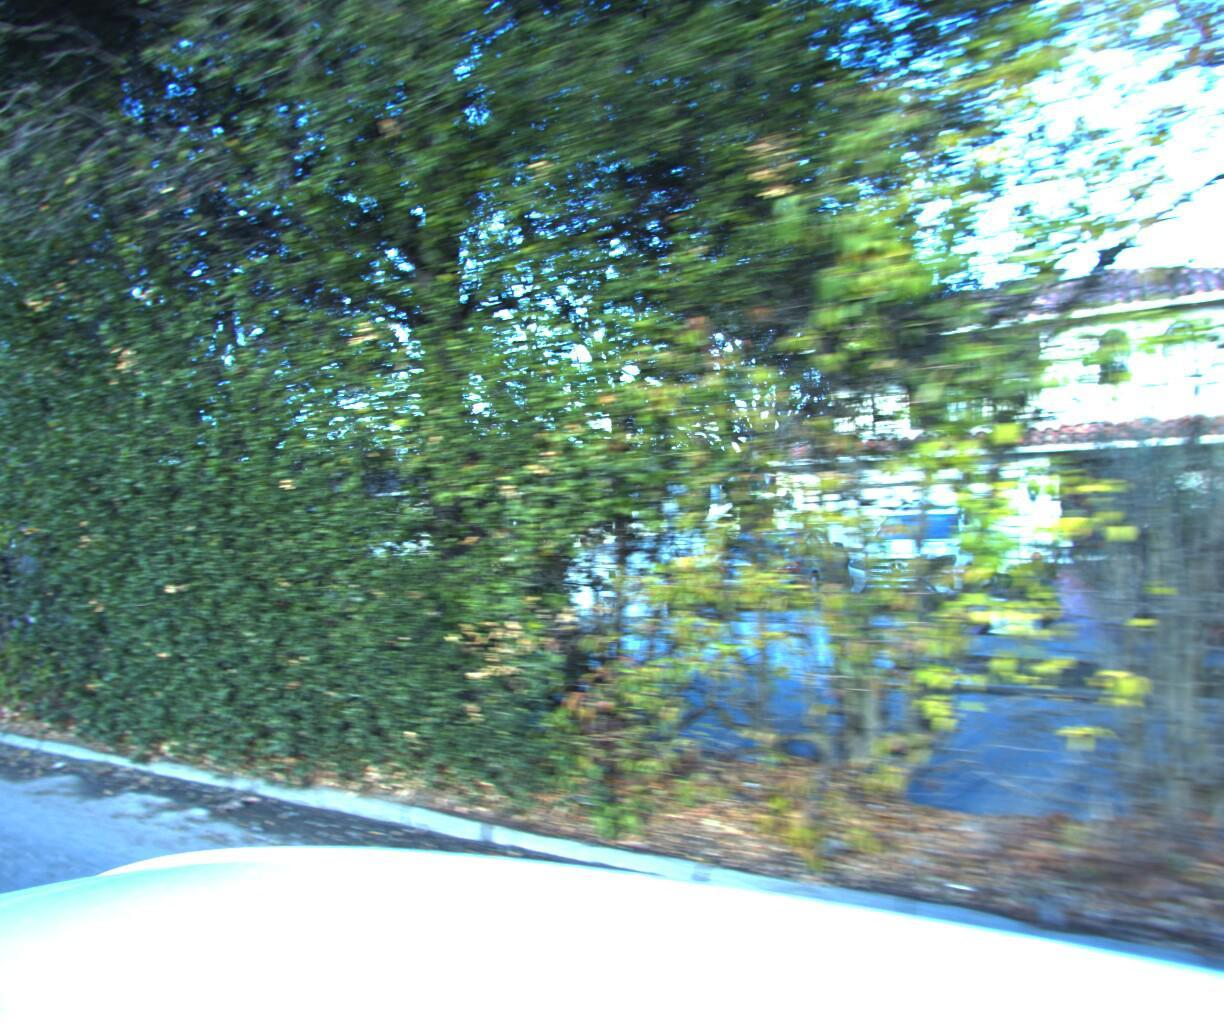car: (828, 489, 1009, 620)
